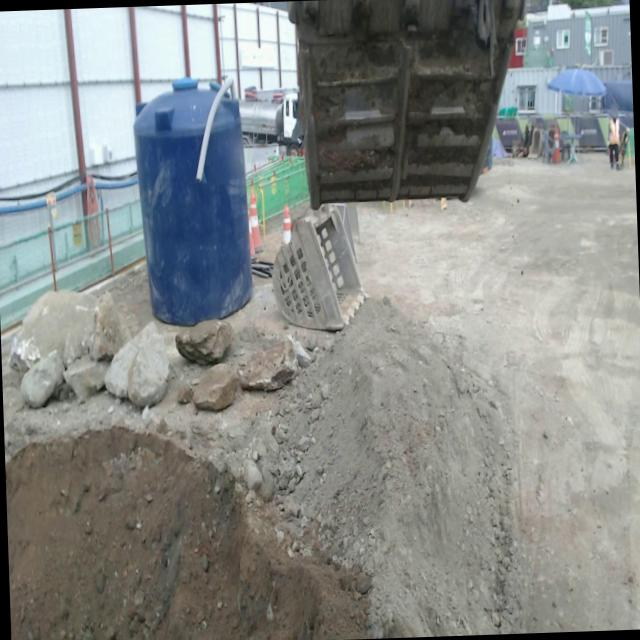red-sand: (5, 159, 640, 640)
rocks: (149, 368, 329, 499)
stone: (8, 290, 97, 372), (104, 323, 169, 406), (237, 337, 297, 389), (88, 293, 128, 359), (175, 319, 233, 364), (20, 351, 63, 407), (192, 363, 238, 411), (63, 355, 108, 400)
